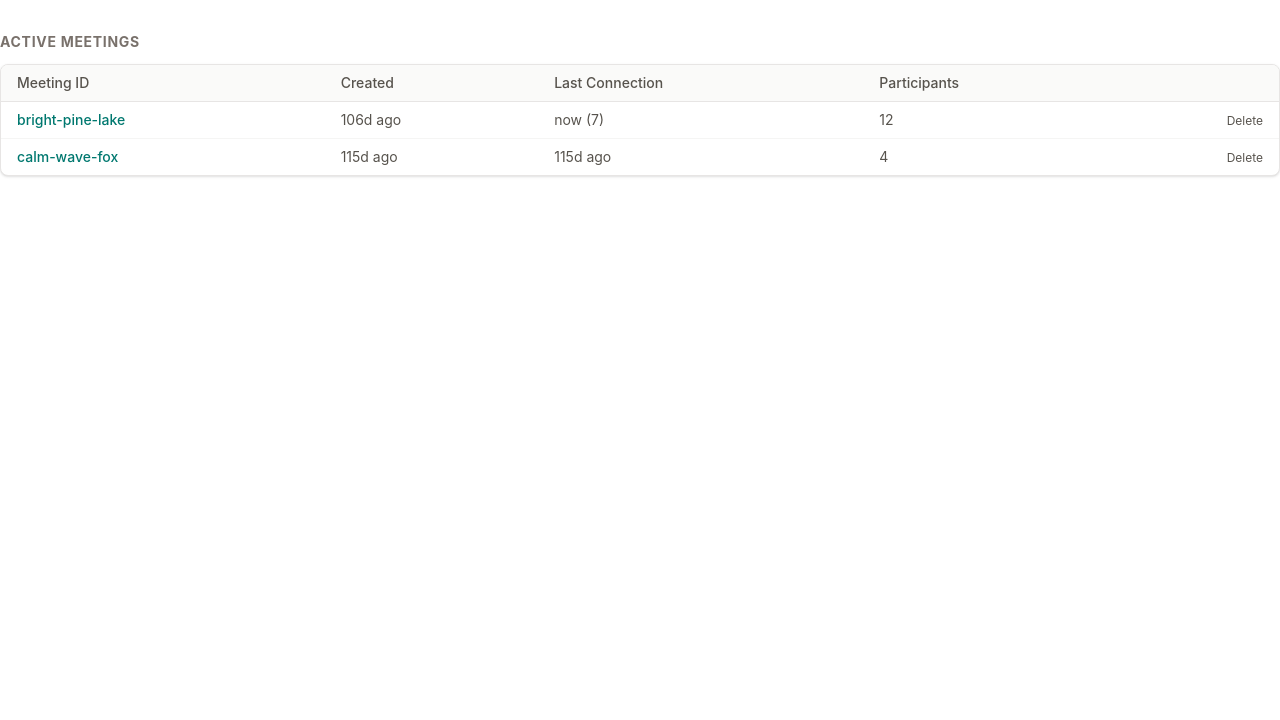
Scenario: AdminPanel › soft-deletes a meeting when confirmed — row stays in the list, struck-through, with a Restore action
Check: the link "bright-pine-lake" is shown, box [17,111,125,128]
Note: Click delete on first meeting
Click the button "Delete" in the row of "bright-pine-lake". click: [1245, 121]
box: [1227,113,1263,129]
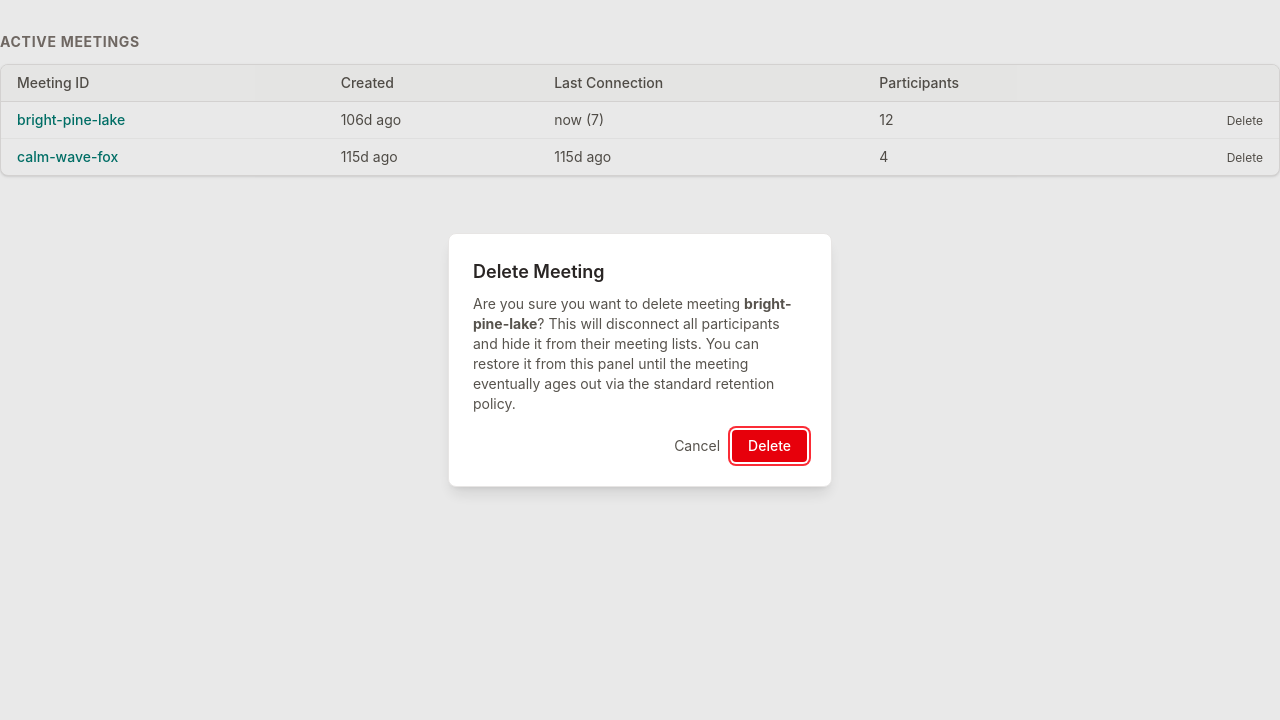
Note: Confirm deletion — click the red "Delete" button in the modal
Click the button "Delete". click: [770, 446]
box: [732,430,807,462]
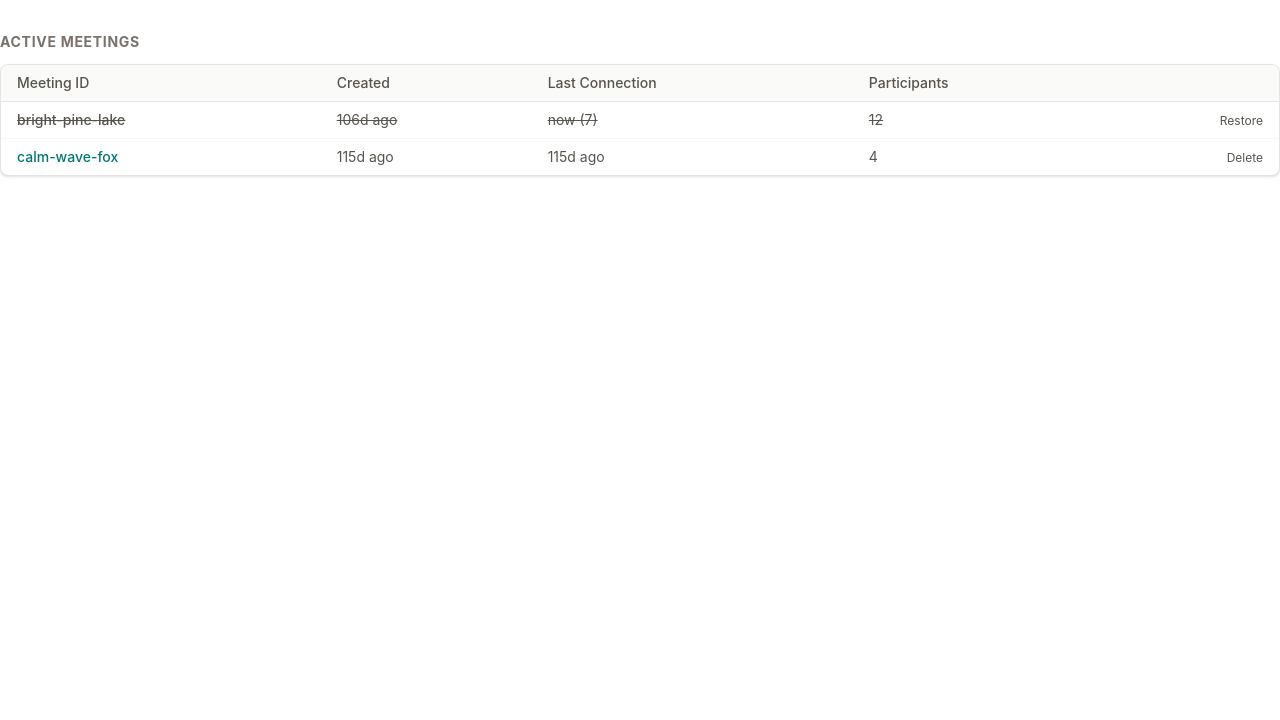
Check: the text "bright-pine-lake" is shown, box [17,111,125,128]
Check: the button "Restore" is shown, box [1220,113,1263,129]
